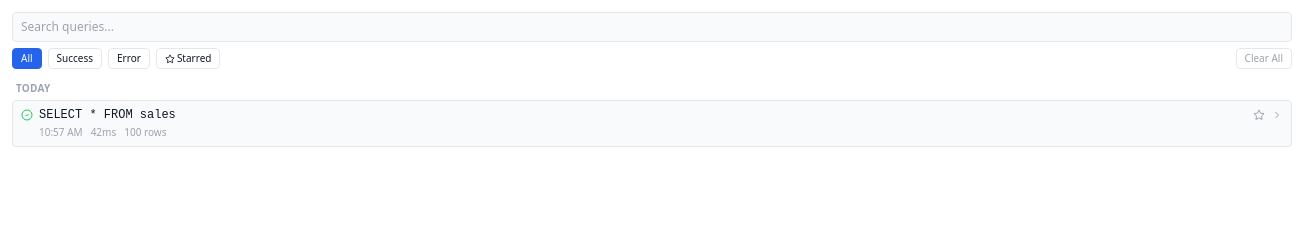
Scenario: QH-7: Clear all with confirmation › shows Confirm Clear on first click and clears on second click
# First click shows confirmation
Click the button with test id "query-history-clear".
click(1264, 58)  # box [1236,48,1292,69]
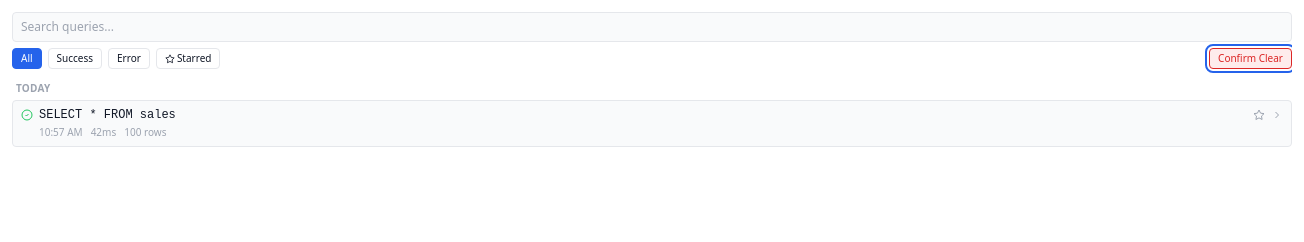
Result: the button with test id "query-history-clear" reads "Confirm Clear"
# Second click clears history
Click the button with test id "query-history-clear".
click(1251, 58)  # box [1209,48,1292,69]
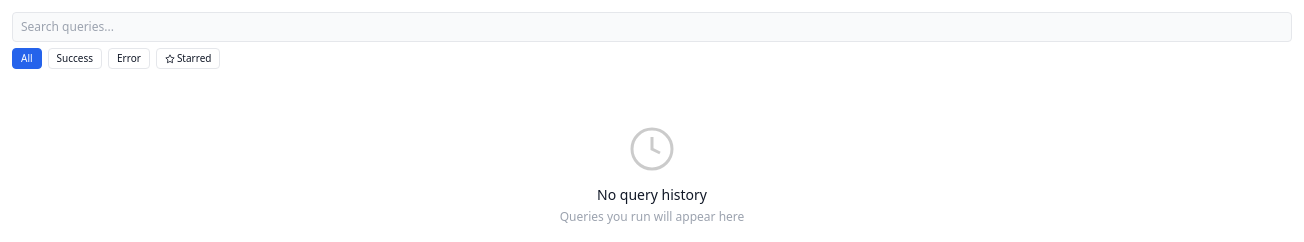
Result: the element with test id "query-history-empty" is shown at [560,125,744,225]
